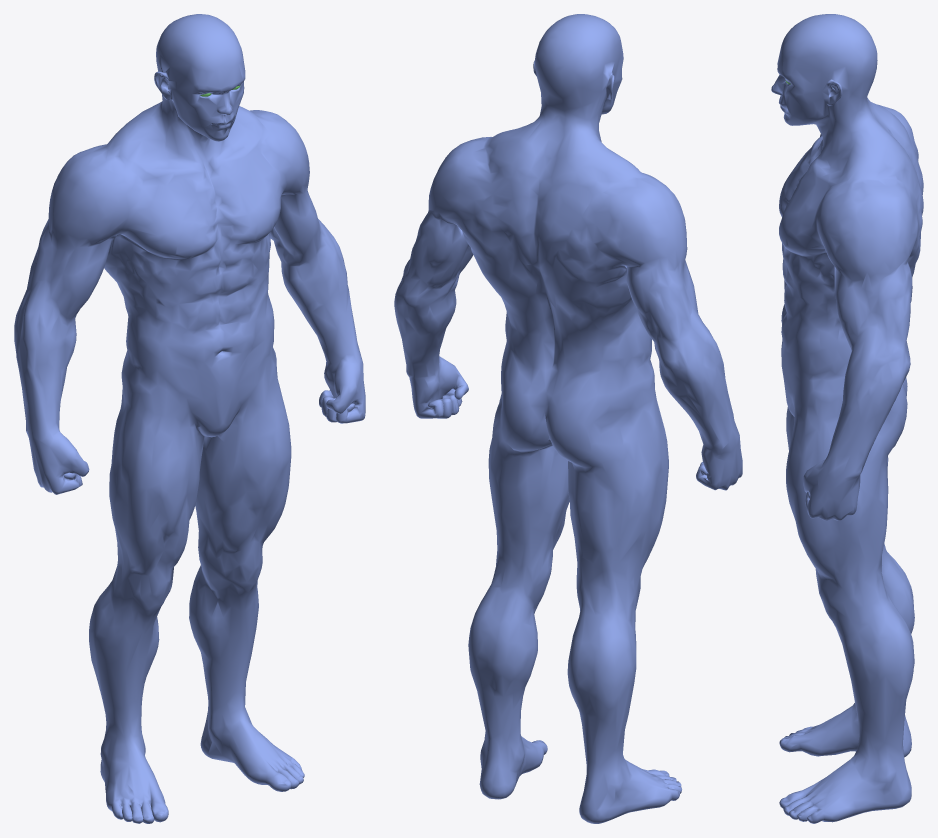
The model's file is male-v1.glb.
3 views of the same model, side by side, from view 1: azimuth 30°, elevation 25°; view 2: azimuth 150°, elevation 25°; view 3: azimuth 270°, elevation 25° (orthographic).
Parts seen in each view (by area): view 1: body; view 2: body; view 3: body.
Part boxes in pixels (x1,y1,x2,y2): body: (14,14,365,823); body: (394,14,742,823); body: (771,14,923,823).
Size of the model in its own units: 238 by 538 by 97.43.
